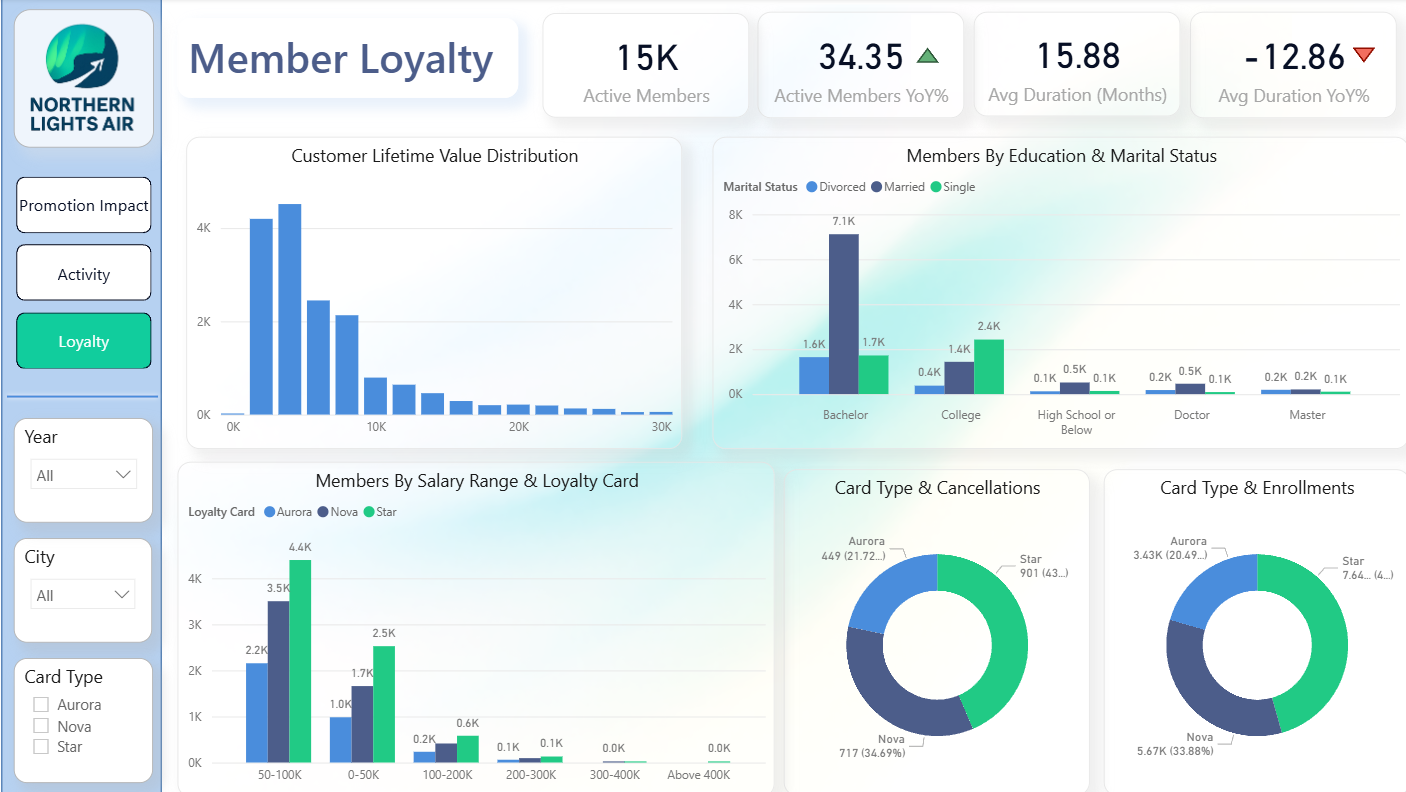

The dashboard page shown, as its layout file describes it:
{"tool":"powerbi","page":{"name":"Loyalty","canvas":[1280,720],"ordinal":2},"visuals":[{"type":"image","box":[152.5,1,1127.5,719],"z":0},{"type":"tableEx","fields":{"Values":["Customer Loyalty History.Avg Duration YoY% Change"]},"box":[1167.8,9.8,105.2,73.4],"z":1000},{"type":"tableEx","fields":{"Values":["Customer Loyalty History.Active Members YoY% Growth"]},"box":[824,9.7,86.8,93.1],"z":2000},{"type":"donutChart","title":"Card Type & Enrollments","fields":{"Category":["Customer Loyalty History.Loyalty Card"],"Y":["CountNonNull(Customer Loyalty History.Loyalty Number)"]},"box":[1004.4,425.4,275.6,294.5],"z":3000},{"type":"donutChart","title":"Card Type & Cancellations","fields":{"Category":["Customer Loyalty History.Loyalty Card"],"Y":["CountNonNull(Customer Loyalty History.Loyalty Number)"]},"box":[716.1,425.4,275.6,294.5],"z":4000},{"type":"clusteredColumnChart","title":"Customer Lifetime Value Distribution","fields":{"Category":["Customer Loyalty History.CLV (bins)"],"Y":["CountNonNull(Customer Loyalty History.CLV (bins))"]},"box":[177.5,124.6,446.8,281.9],"z":5000},{"type":"card","fields":{"Values":["Customer Loyalty History.Avg Duration YoY% Change"]},"box":[1082,12.2,186.3,95.7],"z":6000},{"type":"card","fields":{"Values":["Customer Loyalty History.Active Members YoY% Growth"]},"box":[691.8,12.2,186.3,95.7],"z":7000},{"type":"clusteredColumnChart","title":"Members By Salary Range & Loyalty Card","fields":{"Category":["Customer Loyalty History.Salary Range"],"Series":["Customer Loyalty History.Loyalty Card"],"Y":["CountNonNull(Customer Loyalty History.Loyalty Number)"]},"box":[168.7,417.9,538.7,302.1],"z":8000},{"type":"shape","box":[10,0.5,144.8,719.5],"z":9000},{"type":"textbox","box":[168.8,18.3,306.9,72.1],"z":10000},{"type":"card","fields":{"Values":["Customer Loyalty History.Avg Duration"]},"box":[886.9,12.2,186.3,94.4],"z":11000},{"type":"card","fields":{"Values":["Customer Loyalty History.Active Members"]},"box":[498,13.5,186.3,94.4],"z":12000},{"type":"clusteredColumnChart","title":"Members By Education & Marital Status","fields":{"Category":["Customer Loyalty History.Education"],"Y":["CountNonNull(Customer Loyalty History.Loyalty Number)"],"Series":["Customer Loyalty History.Marital Status"]},"box":[652,124.6,628,281.9],"z":13000},{"type":"slicer","title":"City","fields":{"Values":["Customer Loyalty History.City"]},"box":[21.4,487.1,124.7,94.2],"z":14000},{"type":"slicer","title":"Card Type","fields":{"Values":["Customer Loyalty History.Loyalty Card"]},"box":[21.4,594.7,126,112.5],"z":15000},{"type":"shape","box":[11.6,347.7,144.3,24.5],"z":16000},{"type":"image","box":[21.4,10.3,126.5,125.1],"z":17000},{"type":"pageNavigator","box":[23.8,160.8,122.3,173.6],"z":18000},{"type":"slicer","title":"Year","fields":{"Values":["Calendar.Date.Variation.Date Hierarchy.Year"]},"box":[21.4,378.3,126,94.2],"z":19000}]}

Visuals, with their boxes in screenshot pixels (x1, y1, x2, y2), scaled from the page's 1280x720 canvas onto the 1406x792 screenshot:
image: (168,1,1405,791)
tableEx - Customer Loyalty History.Avg Duration YoY% Change: (1283,11,1398,92)
tableEx - Customer Loyalty History.Active Members YoY% Growth: (905,11,1000,113)
"Card Type & Enrollments" donutChart: (1103,468,1405,791)
"Card Type & Cancellations" donutChart: (787,468,1089,791)
"Customer Lifetime Value Distribution" clusteredColumnChart: (195,137,686,447)
card - Customer Loyalty History.Avg Duration YoY% Change: (1189,13,1393,119)
card - Customer Loyalty History.Active Members YoY% Growth: (760,13,965,119)
"Members By Salary Range & Loyalty Card" clusteredColumnChart: (185,460,777,791)
shape: (11,1,170,791)
textbox: (185,20,523,99)
card - Customer Loyalty History.Avg Duration: (974,13,1179,117)
card - Customer Loyalty History.Active Members: (547,15,752,119)
"Members By Education & Marital Status" clusteredColumnChart: (716,137,1405,447)
"City" slicer: (24,536,160,639)
"Card Type" slicer: (24,654,162,778)
shape: (13,382,171,409)
image: (24,11,162,149)
pageNavigator: (26,177,160,368)
"Year" slicer: (24,416,162,520)
